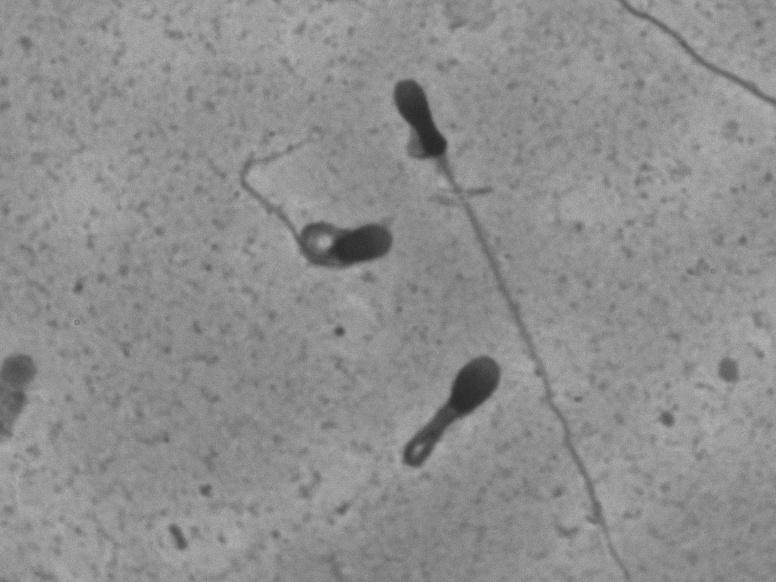Abnormal: (375, 67, 642, 556), (199, 139, 402, 288), (380, 345, 513, 492)
